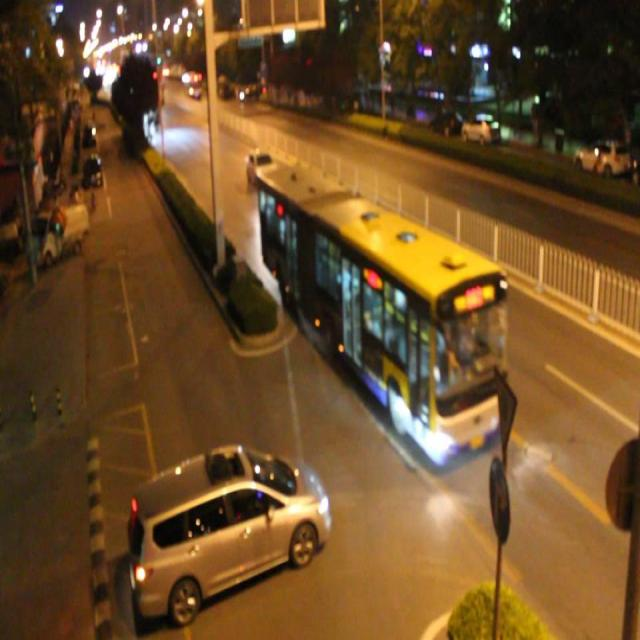car: (132, 442, 327, 614), (246, 151, 273, 187)
van: (259, 170, 507, 462)
